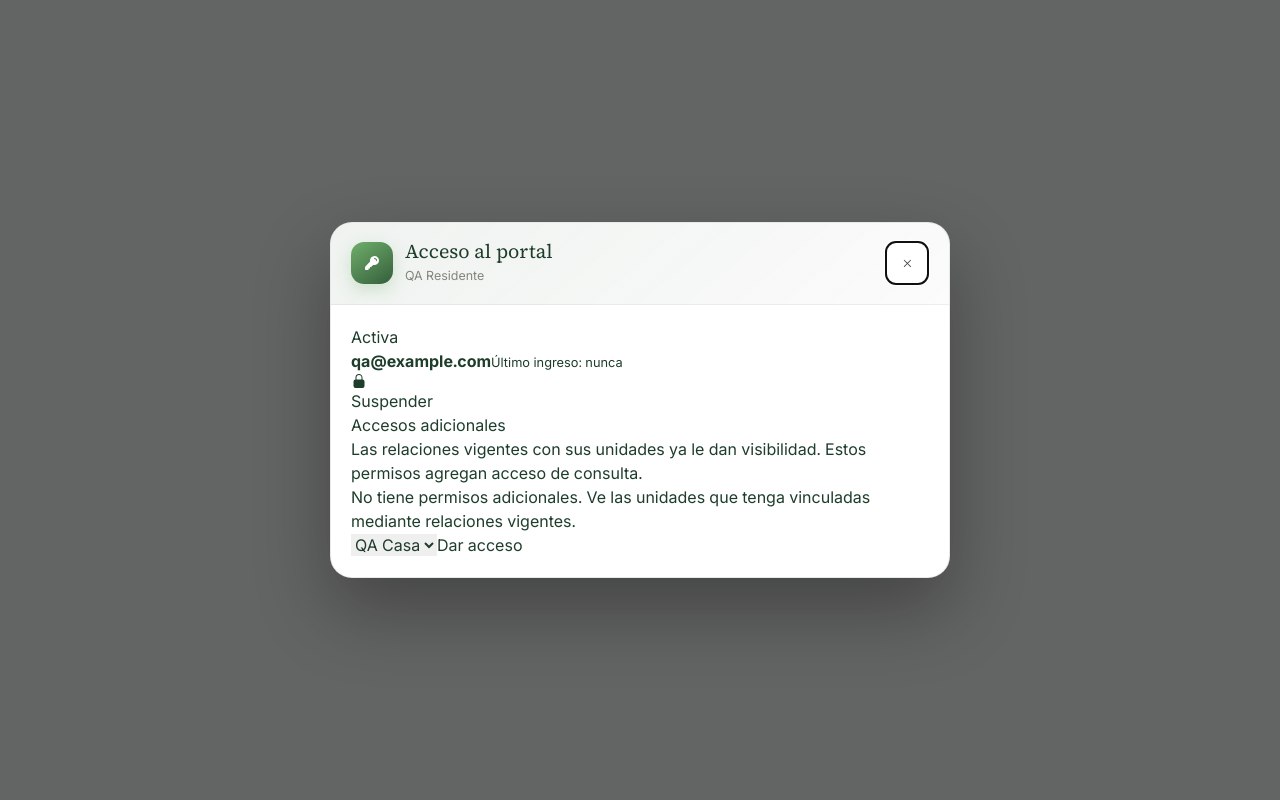
it: Administración de acceso al portal › explica el alcance global de suspensión y cancelar no modifica la cuenta
Expected: the text "No tiene permisos adicionales" is shown, [351, 487, 870, 531]
Click the button "Suspender".
click(392, 393)  # box [351, 373, 433, 413]
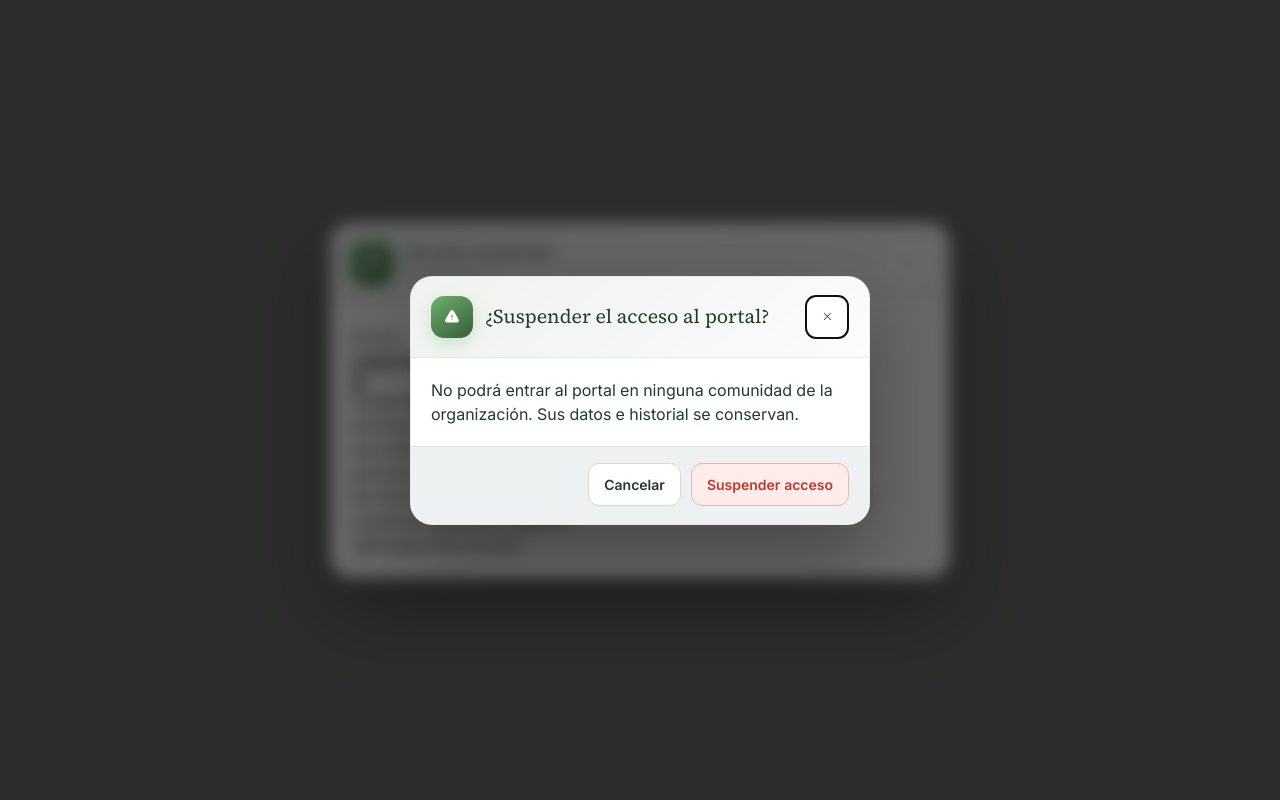
Now the text "ninguna comunidad de la organización" is shown, box [431, 380, 833, 424]
Click the button "Cancelar".
click(635, 484)  # box [588, 462, 681, 506]
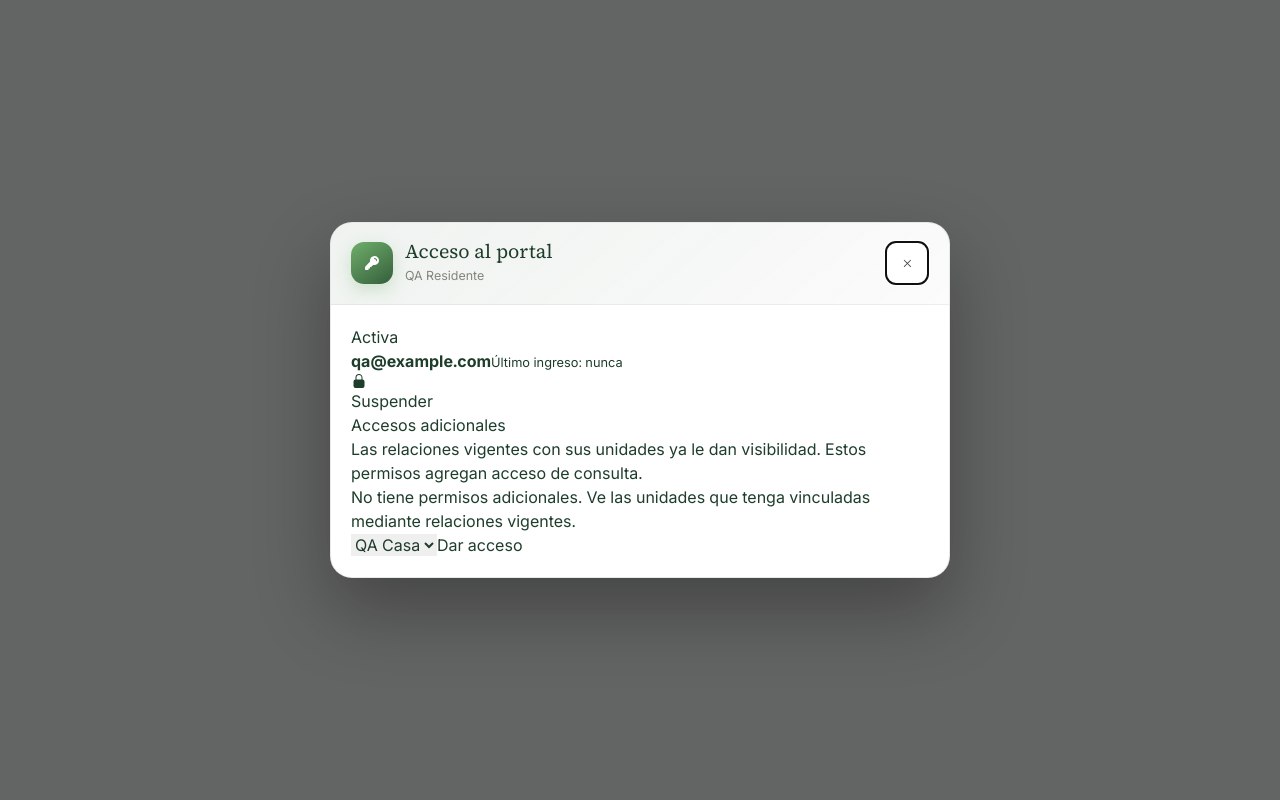
Now the text "ninguna comunidad de la organización" is gone
